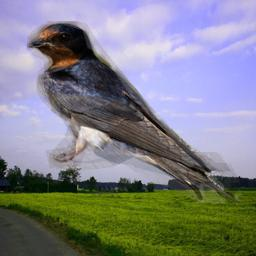Swallow: (27, 21, 245, 209)
